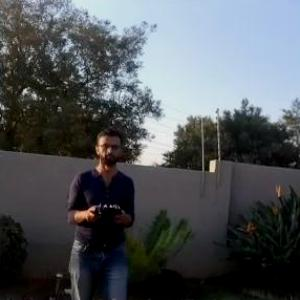follow: (65, 123, 144, 299)
